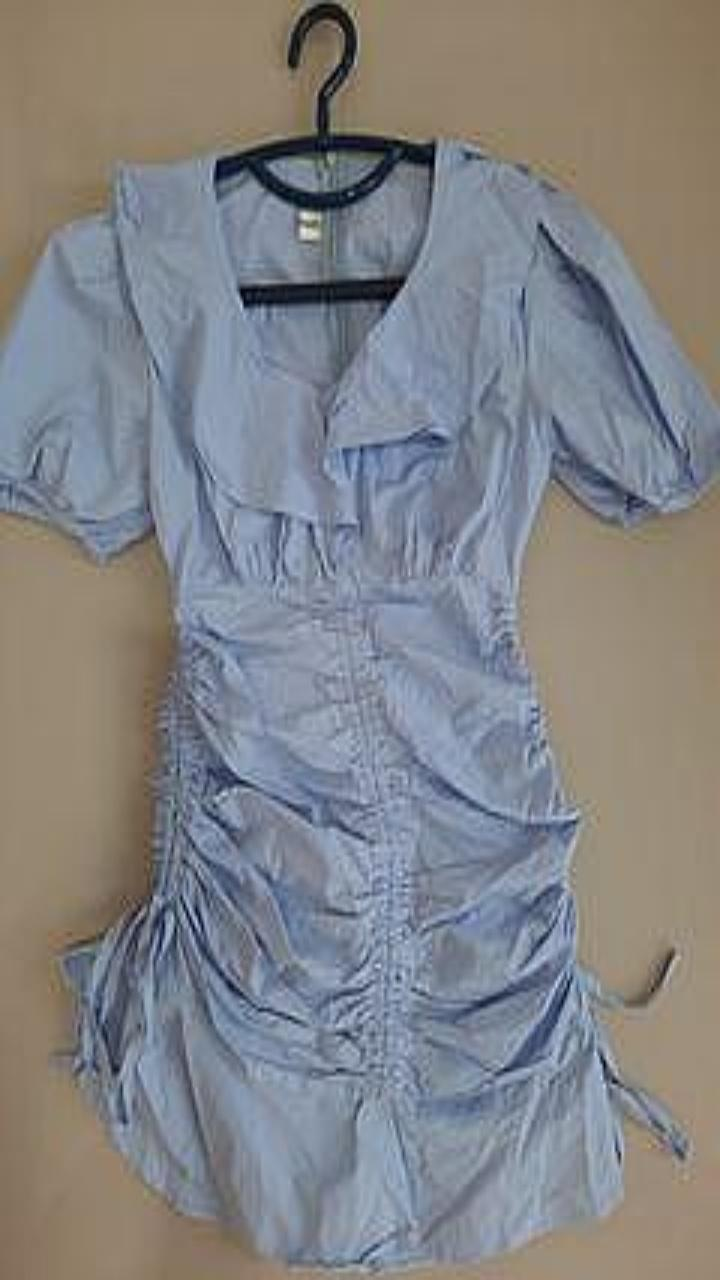T-Shirt: (0, 136, 719, 1270)
